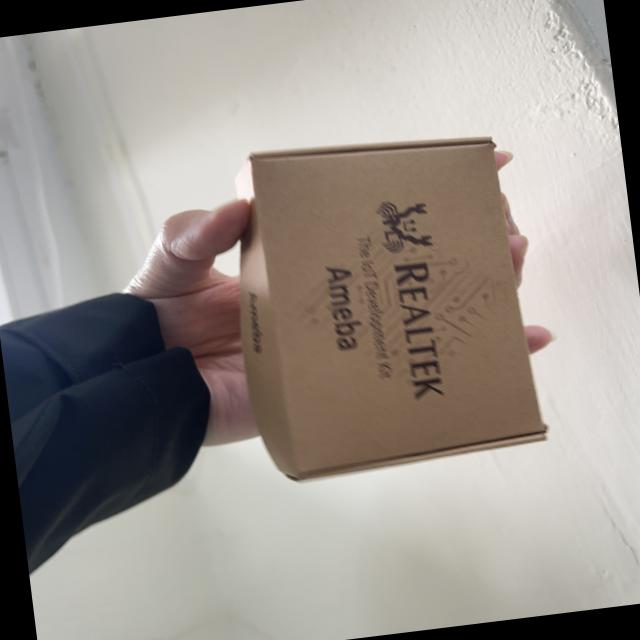box: (198, 104, 582, 522)
